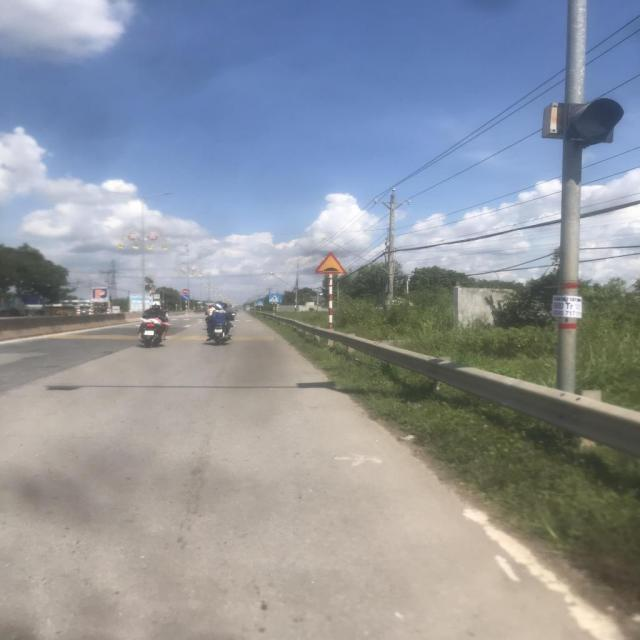102-cam-di-nguoc-chieu: (183, 288, 189, 294)
221-duong-go-ghe: (315, 252, 345, 274)
224-duong-nguoi-di-bo-cat-ngang: (268, 294, 284, 304)
302a-huong-phai-di-vong-chuong-ngai-vat-1: (182, 294, 190, 300)
